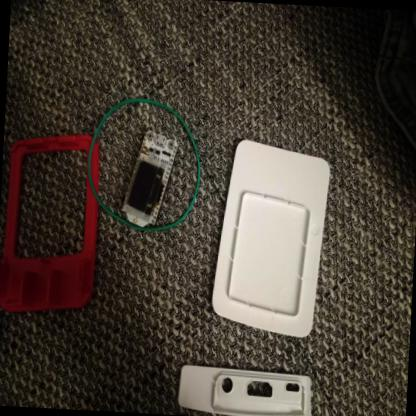Heltec_ESP32_Lora: (118, 127, 181, 233)
